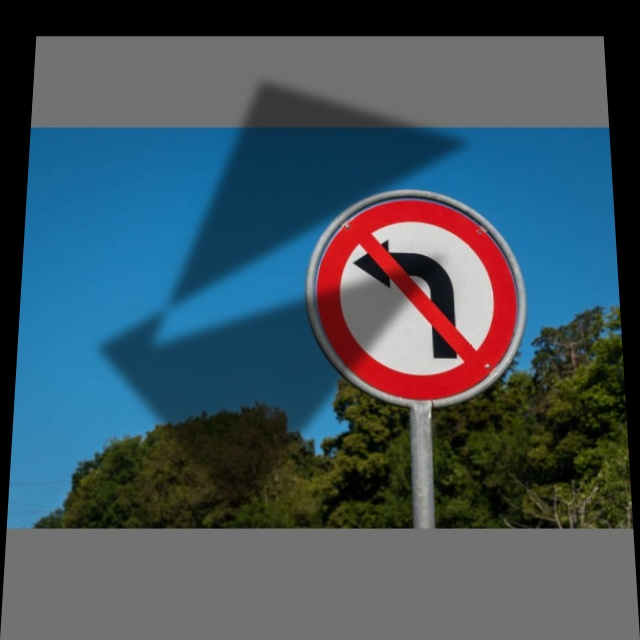Left_Turn_Prohibited: (307, 197, 531, 403)
